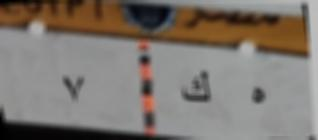7: (51, 71, 92, 108)
haa: (245, 78, 273, 114)
kaaf: (179, 64, 217, 113)
